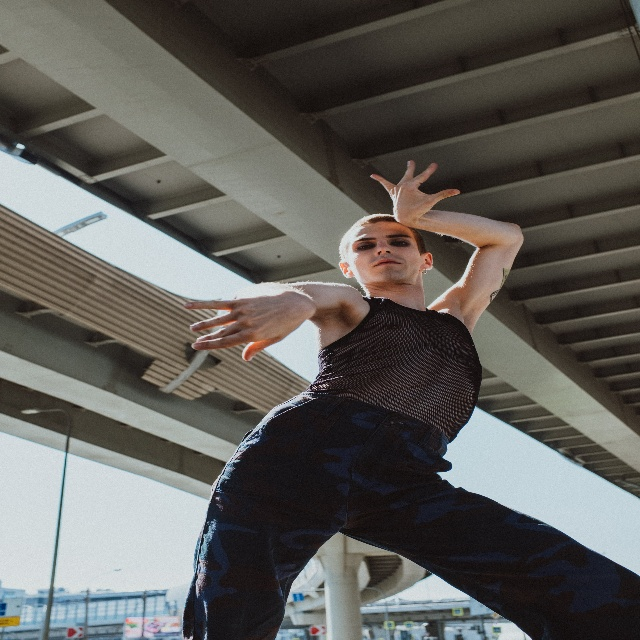Sin_guantes: (183, 288, 322, 361), (367, 157, 460, 212)
